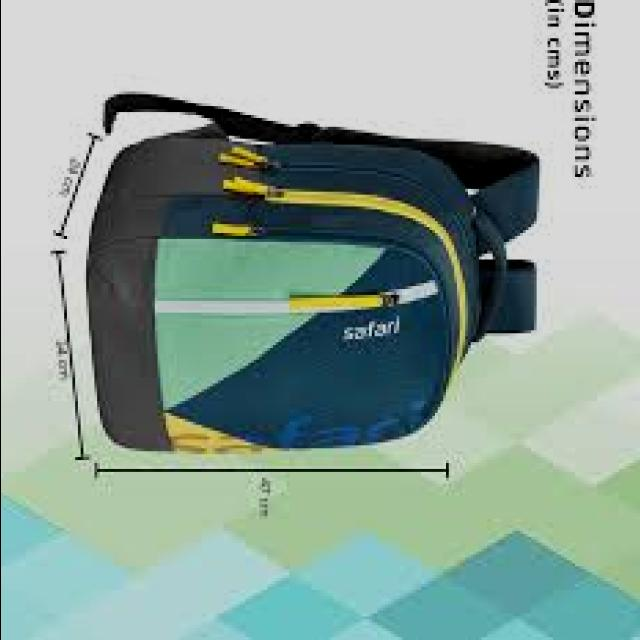backpack: (73, 93, 543, 456)
